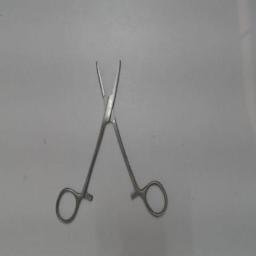Mayo Needle Holder: (52, 49, 170, 225)
